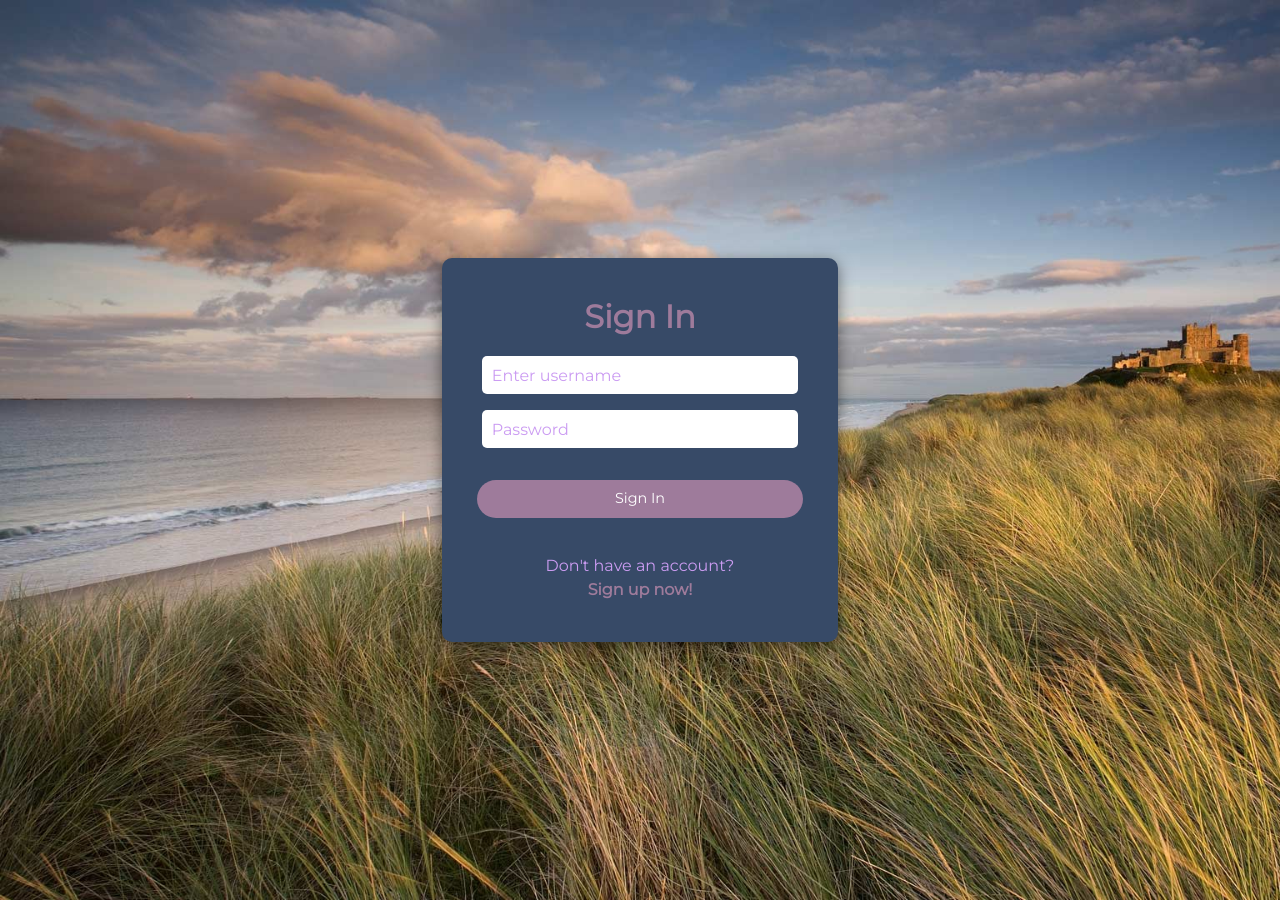
Test case: SignInForm › displays error message on failed login
In the field with placeholder "Enter username": (640, 375) [482,356,798,394], type "wronguser"
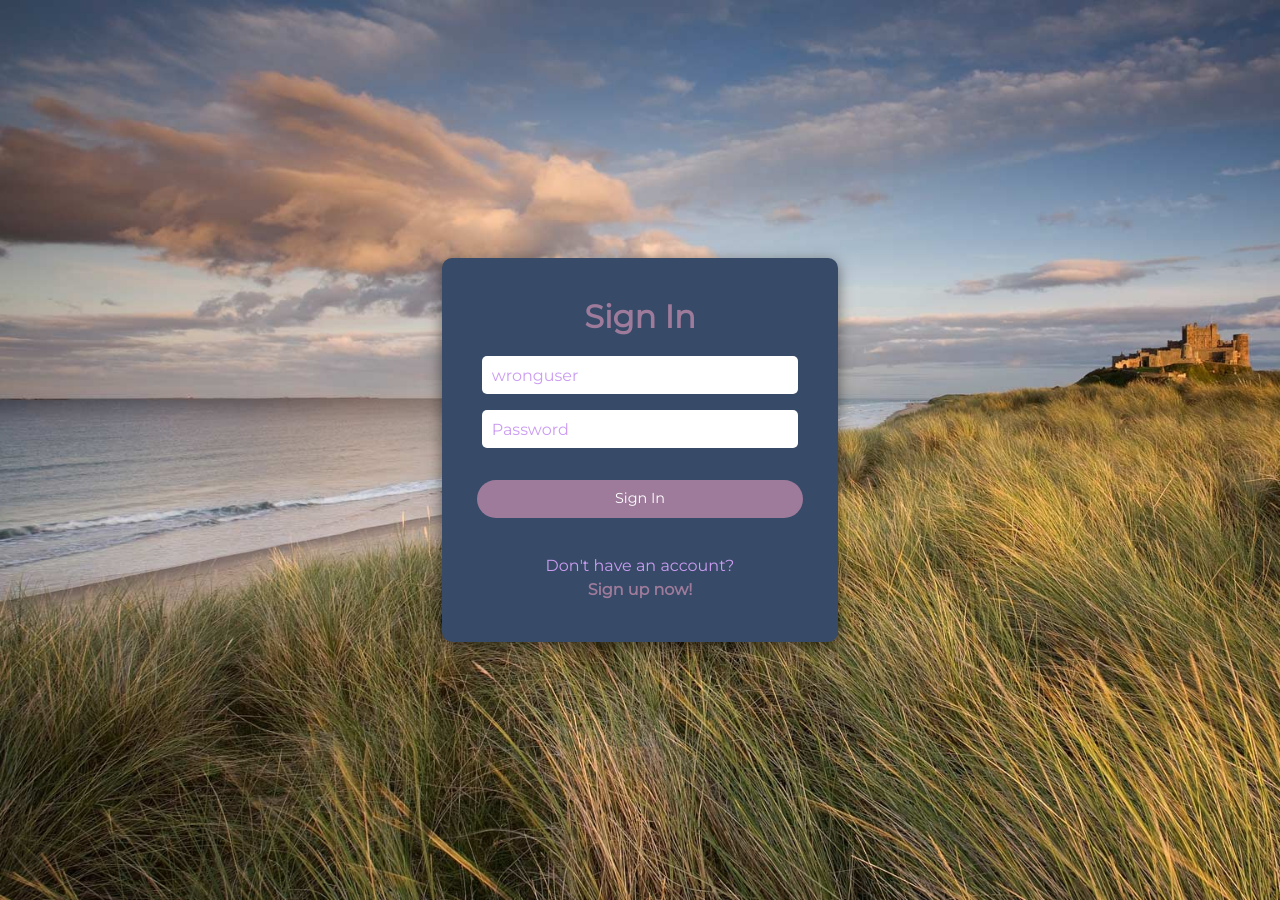
In the password field with placeholder "Password": (640, 429) [482,410,798,448], type "wrongpassword"
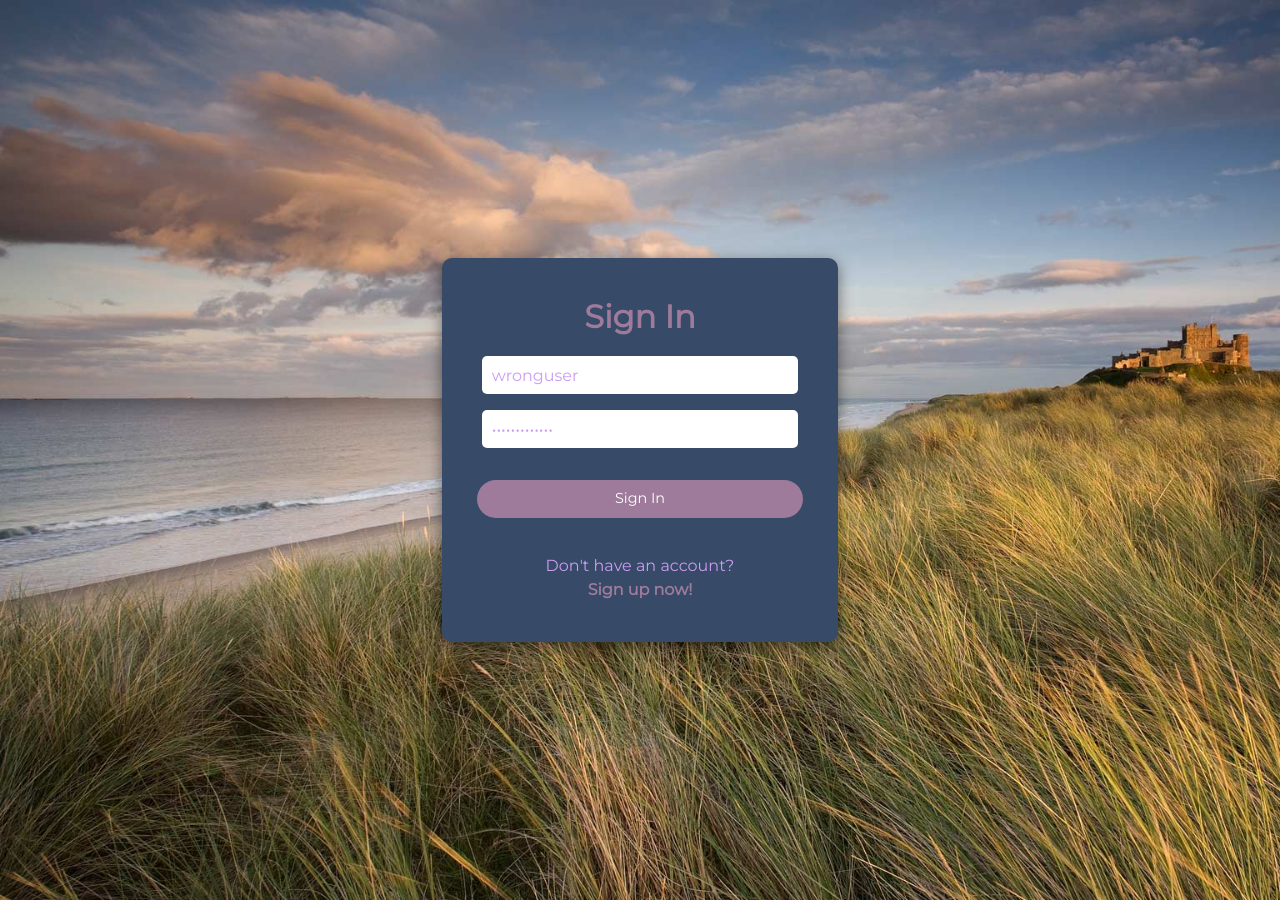
Click the button "Sign In": (640, 499) [477,480,803,518]
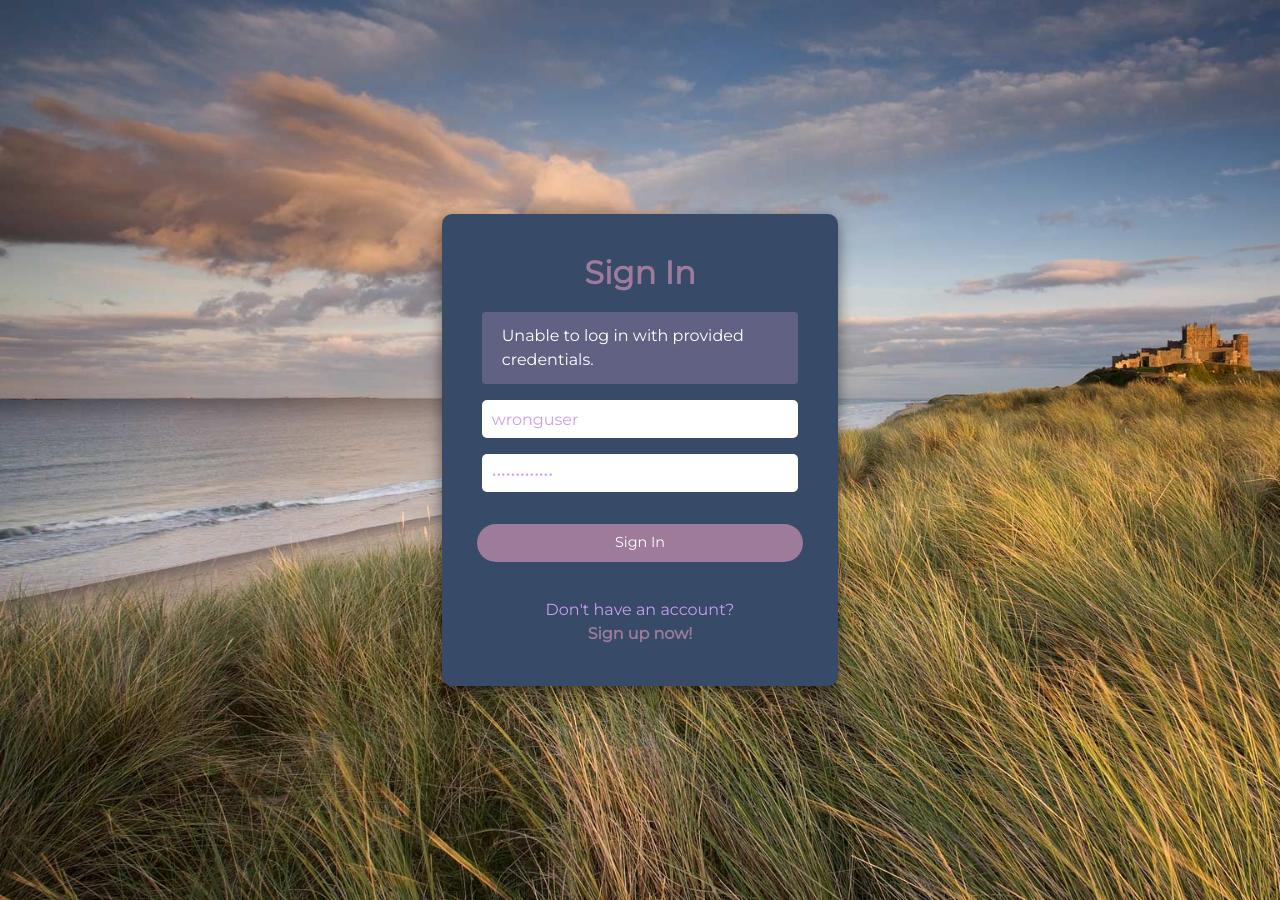
Expected: the text "Unable to log in with provided credentials." is shown, [502,324,778,372]
